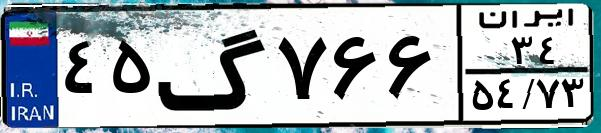3: (560, 70, 590, 125), (508, 27, 537, 80)
4: (57, 26, 110, 100), (537, 27, 568, 80), (495, 70, 520, 125)
5: (110, 28, 156, 98), (470, 70, 495, 125)
6: (385, 28, 445, 110), (330, 28, 385, 110)
7: (270, 28, 330, 110), (535, 70, 560, 125)
گ: (156, 12, 270, 120)
